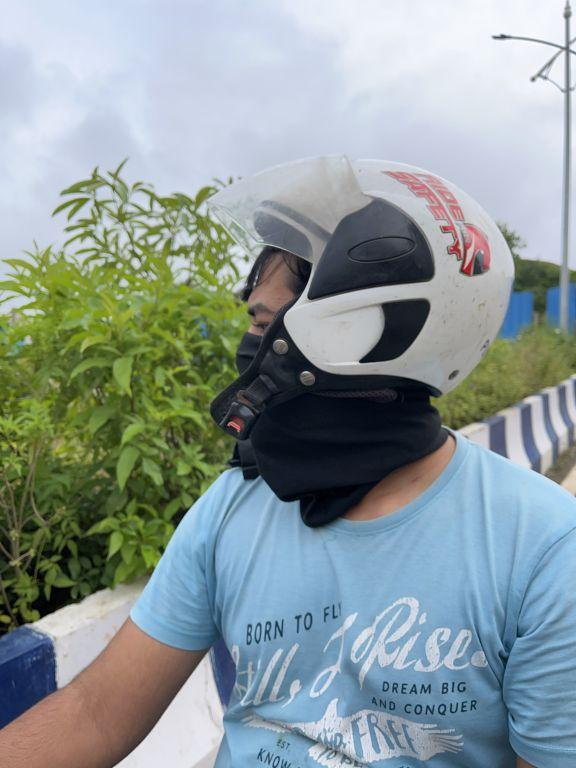helmet: (179, 140, 520, 498)
